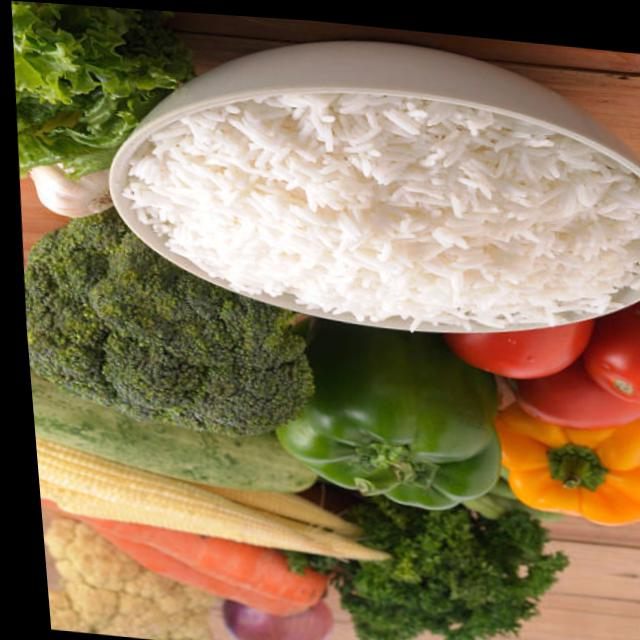rice: (108, 64, 640, 359)
